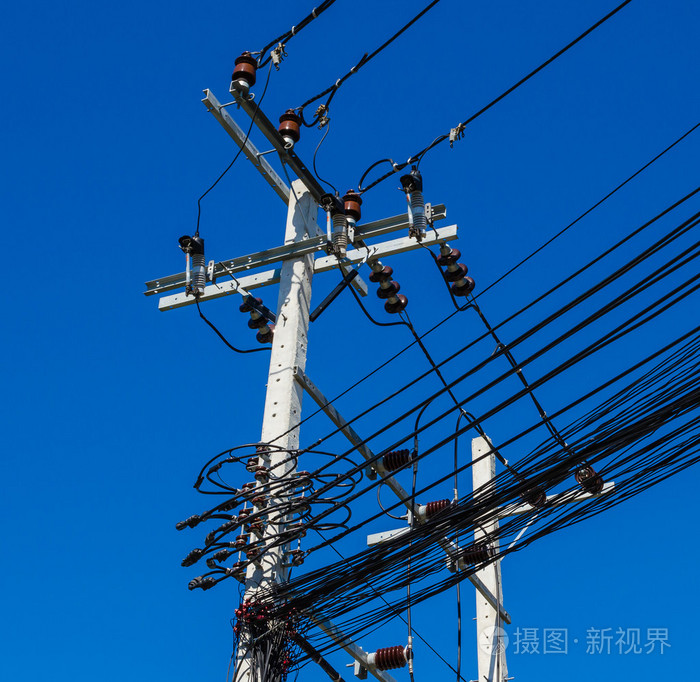insulator: (367, 265, 409, 315), (437, 246, 478, 295), (236, 298, 278, 343), (376, 645, 406, 675), (382, 446, 412, 472), (424, 497, 451, 513)
